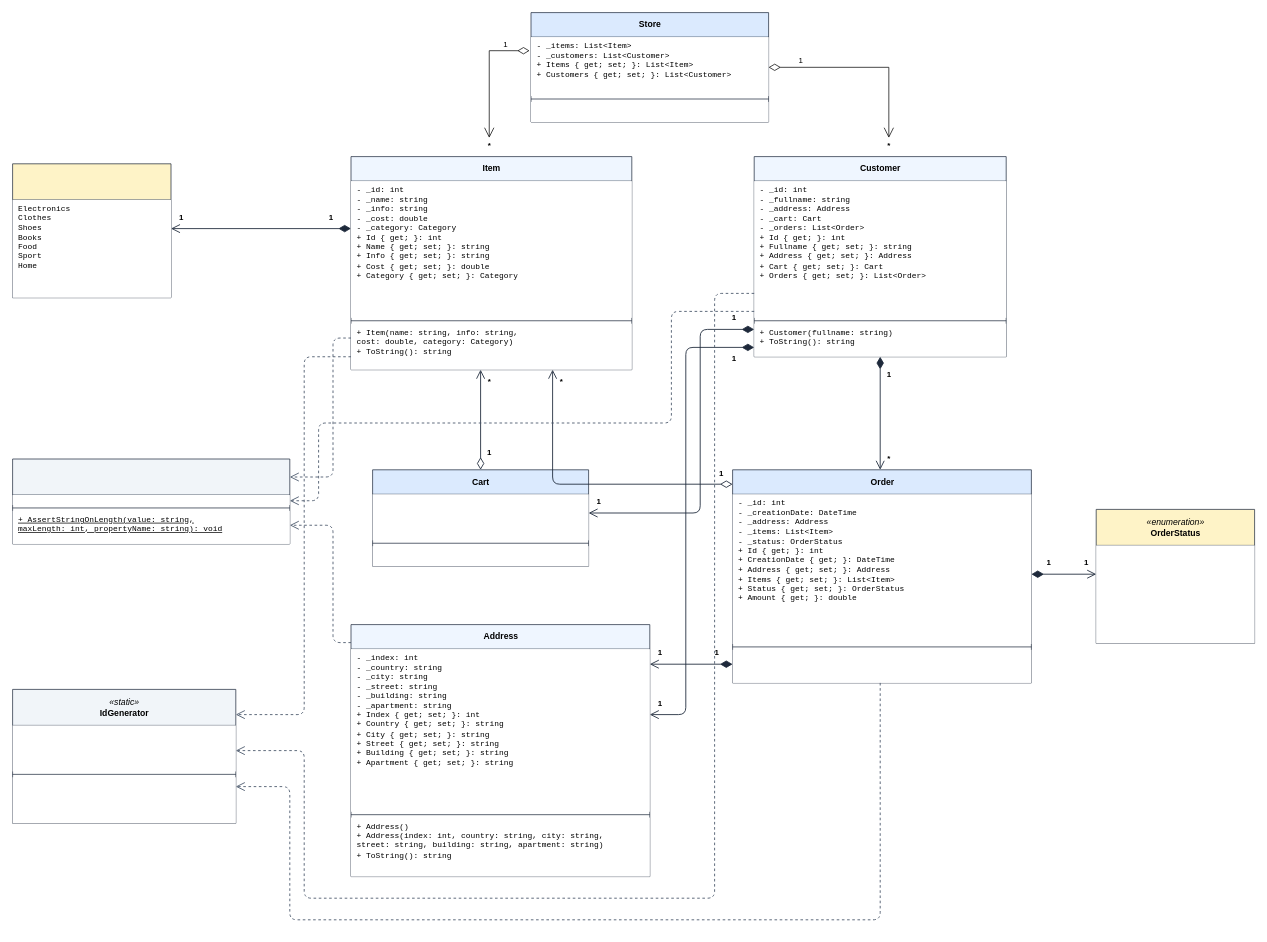
The diagram is 1267 pixels wide and 942 high, and some of its shapes have lost their labels. The box of each missing label's shape, as (x1, y1, x2, y2) in pixels:
+ Cart(): (372, 546, 588, 566)
+ GetNextItemId(): int + GetNextCustomerId(): int + GetNextOrderId(): int: (12, 777, 235, 823)
+ Order(id: int, address: Address, items: List<Item>, status: OrderStatus): (732, 649, 1031, 683)
+ Store(): (531, 102, 768, 122)
- _items: List<Item> + Items { get; set; }: List<Item> + Amount { get; }: double: (372, 494, 588, 540)
- _nextItemId: int - _nextCustomerId: int - _nextOrderId: int: (12, 725, 235, 771)
New Processing Assembly Sent Delivered Returned Abandoned: (1096, 545, 1254, 643)
«enumeration» Category: (12, 163, 171, 298)
«static» ValueValidator: (12, 458, 290, 544)
